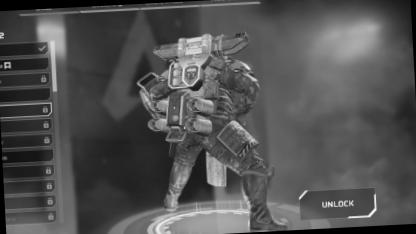Target: (130, 29, 288, 204)
